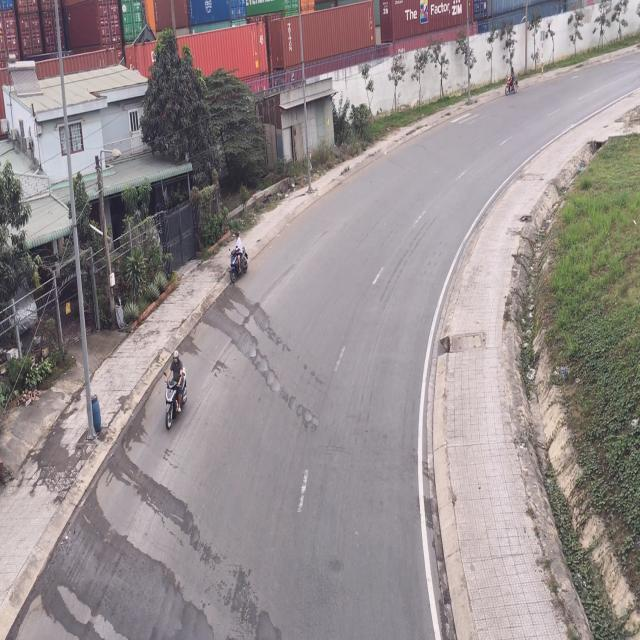motorbike: (166, 349, 191, 428), (230, 237, 250, 287), (504, 57, 519, 98)
